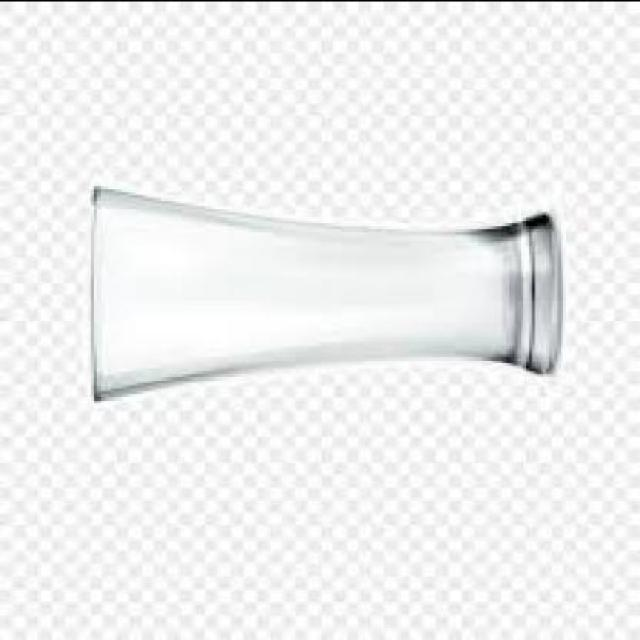glass: (88, 188, 552, 406)
